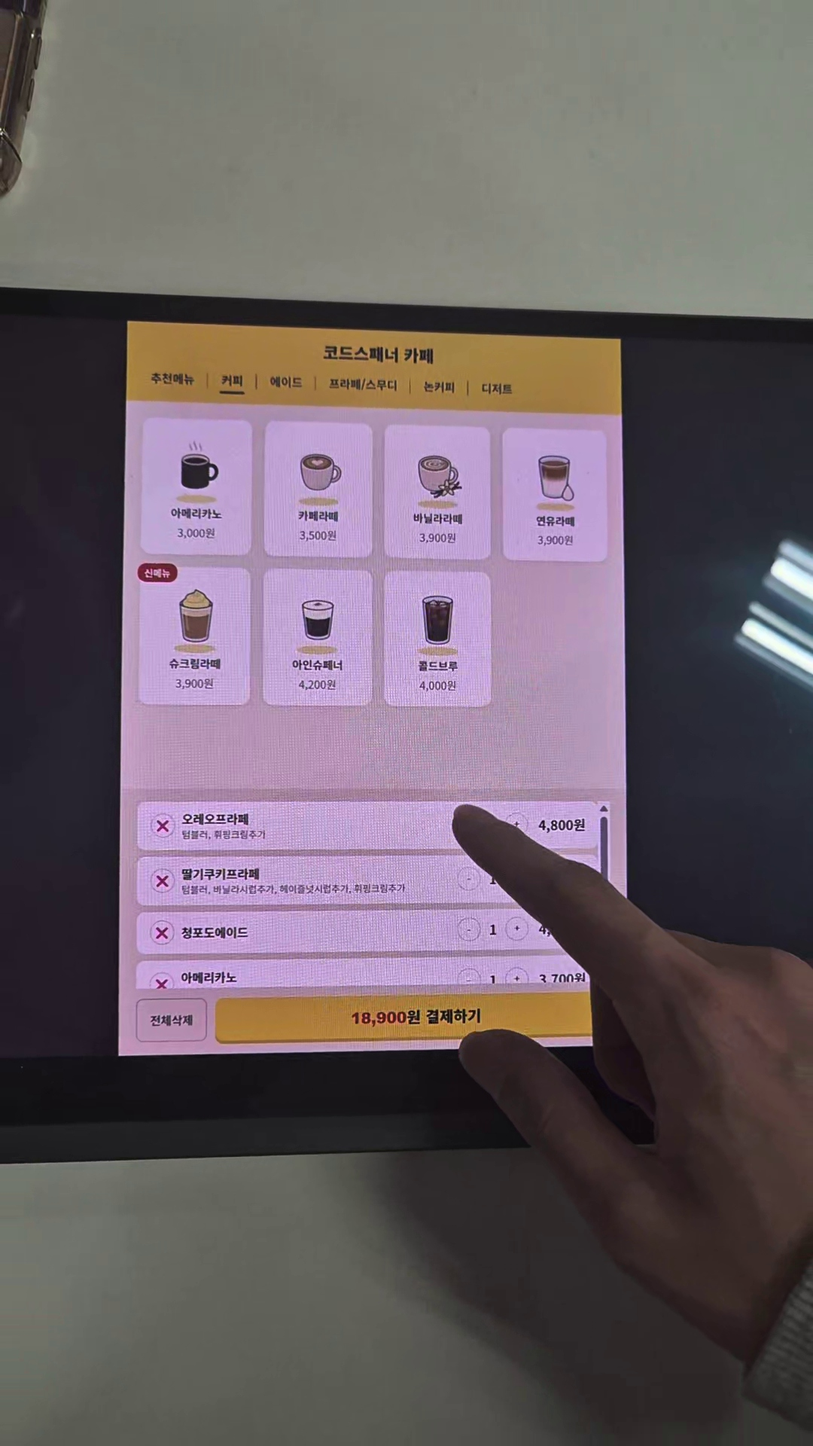action_button: (215, 991, 611, 1043), (136, 999, 207, 1042)
cart_item: (136, 855, 601, 906), (136, 801, 599, 851), (137, 908, 604, 955), (135, 955, 604, 989)
category_tab: (325, 374, 398, 394), (147, 368, 197, 388), (267, 373, 303, 390), (480, 379, 515, 396), (423, 377, 457, 394), (219, 371, 246, 388)
menu_back: (137, 563, 251, 705), (140, 416, 255, 556), (262, 568, 373, 706), (382, 571, 492, 707), (265, 421, 373, 558), (383, 425, 492, 560), (502, 427, 608, 562)
menu_name: (167, 655, 222, 672), (411, 510, 464, 527), (169, 505, 223, 521), (415, 657, 460, 674), (291, 658, 345, 672), (295, 509, 340, 524), (535, 513, 577, 528)
menu_price: (418, 529, 459, 546), (296, 527, 338, 543), (174, 526, 216, 541), (174, 675, 216, 690), (417, 678, 458, 693), (536, 533, 575, 548), (297, 677, 338, 691)
